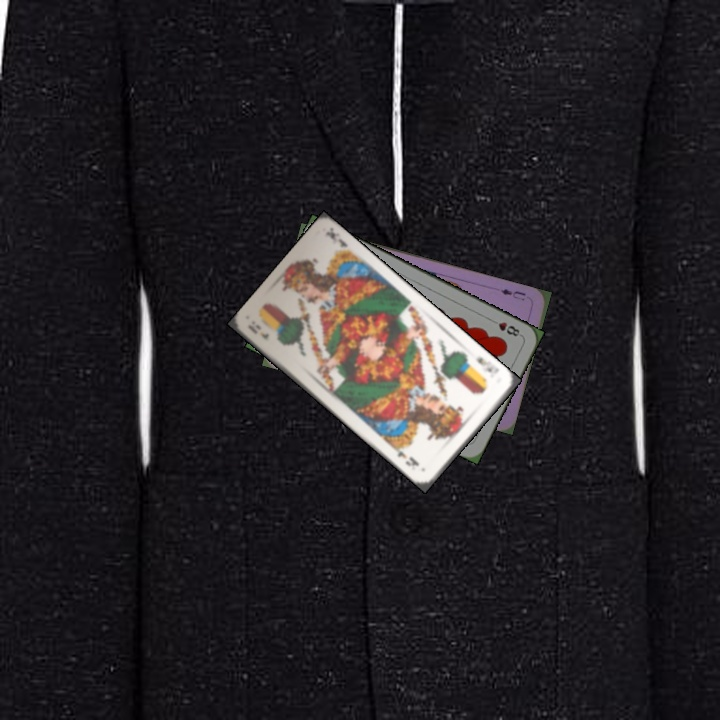EK: (471, 353, 502, 375), (244, 321, 271, 342)
EU: (497, 284, 528, 303)
H8: (486, 315, 524, 339)
